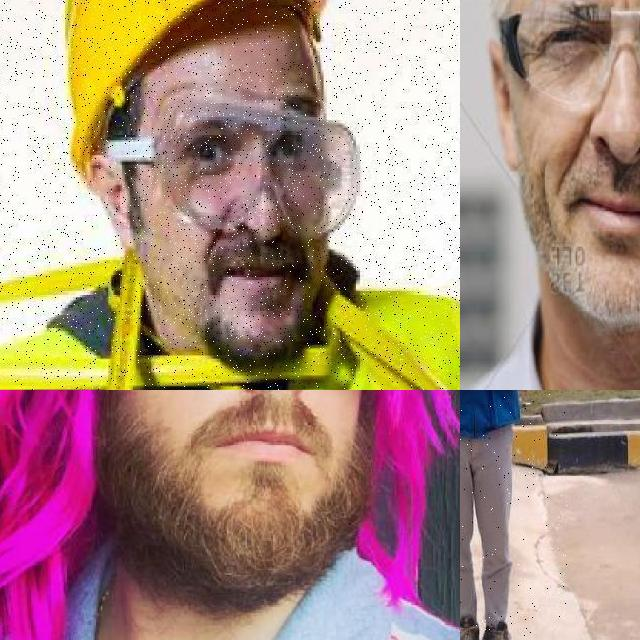No_Ear-Protection: (79, 150, 148, 264)
boots: (481, 618, 522, 640), (460, 611, 482, 640)
face_nomask: (516, 5, 640, 260), (144, 203, 325, 370), (135, 390, 375, 481)
glasses: (105, 100, 358, 238), (499, 0, 640, 96)
head_helmet: (68, 0, 204, 173)
person: (460, 390, 567, 640)
